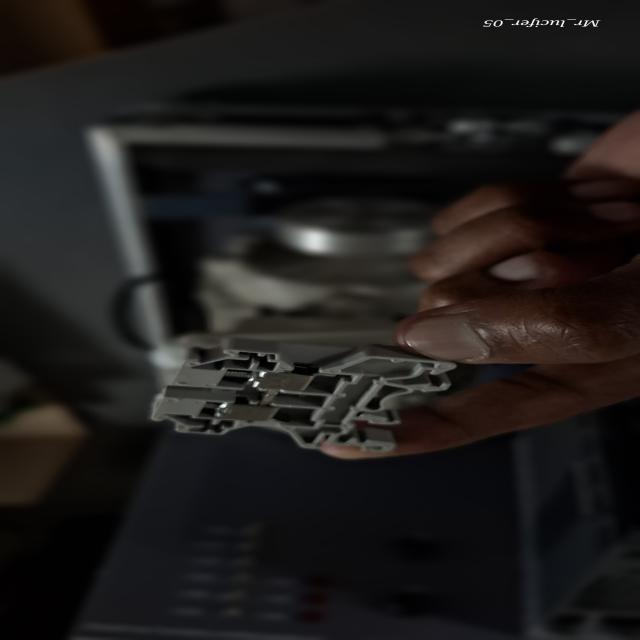Pass: (112, 308, 490, 458)
